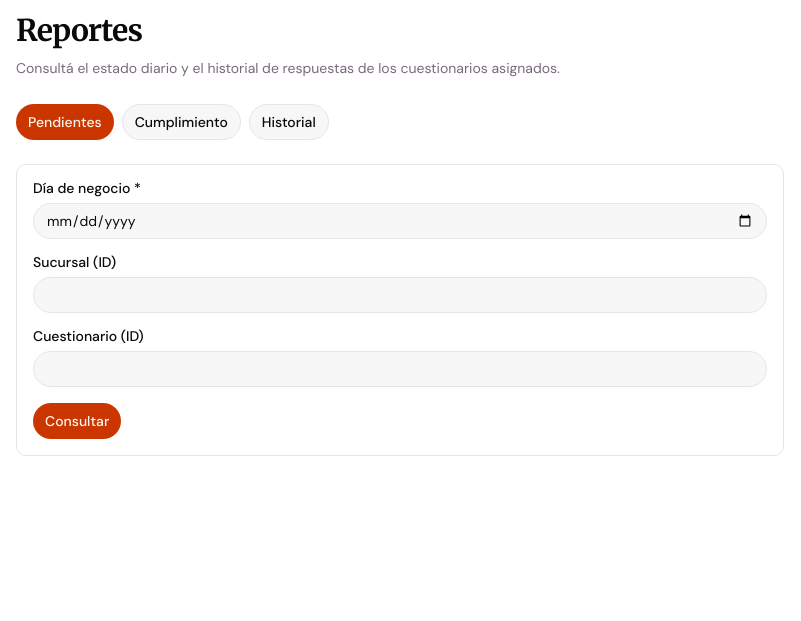
ReportsView — filtros permitidos por tipo de reporte › historial ofrece from/to, empleado y filtros, sin businessDay
Click the button "Historial".
click(289, 122)  # box [249,104,329,140]
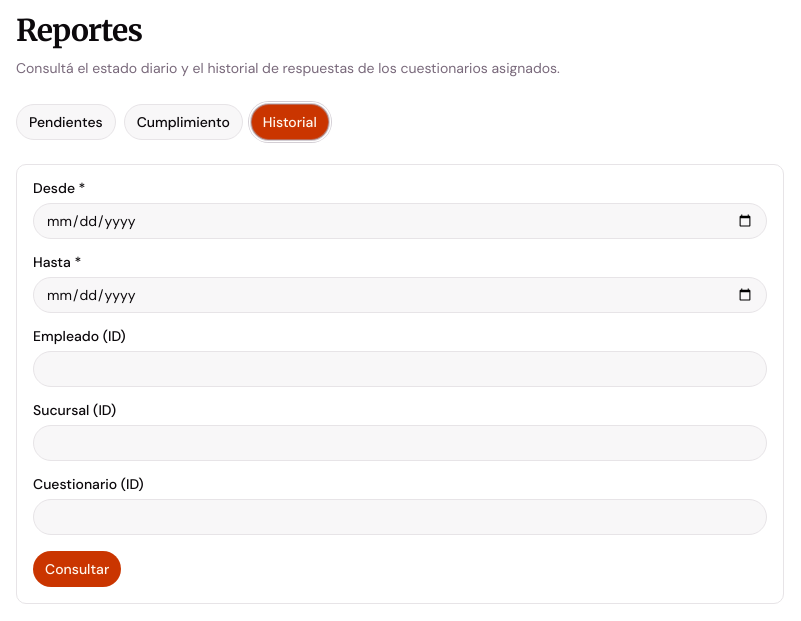
Expected: the date field labelled "Desde *" is shown, [33,203,767,239]
Expected: the date field labelled "Hasta *" is shown, [33,277,767,313]
Expected: the label labelled "Día de negocio" is gone
